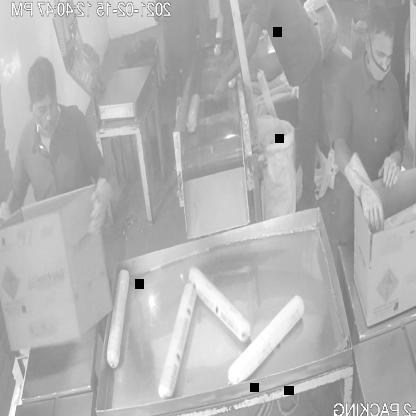glove: (345, 157, 387, 239), (82, 166, 120, 247), (374, 144, 410, 192)
no_glove: (212, 16, 261, 112)
